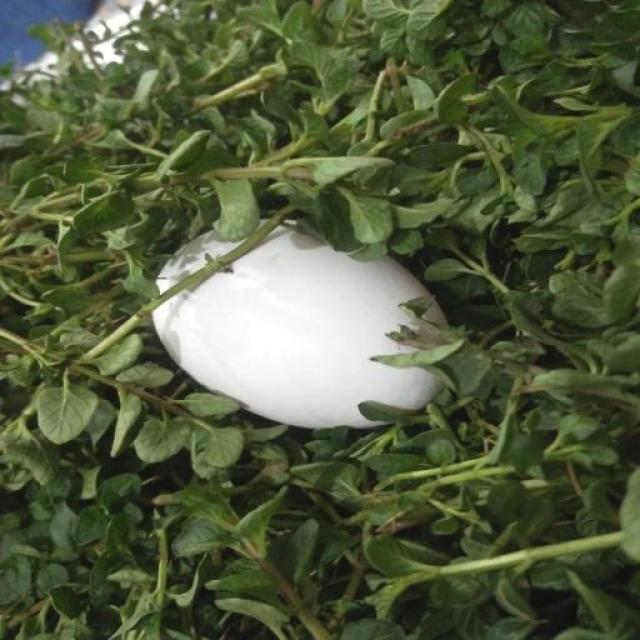telur: (137, 198, 469, 456)
